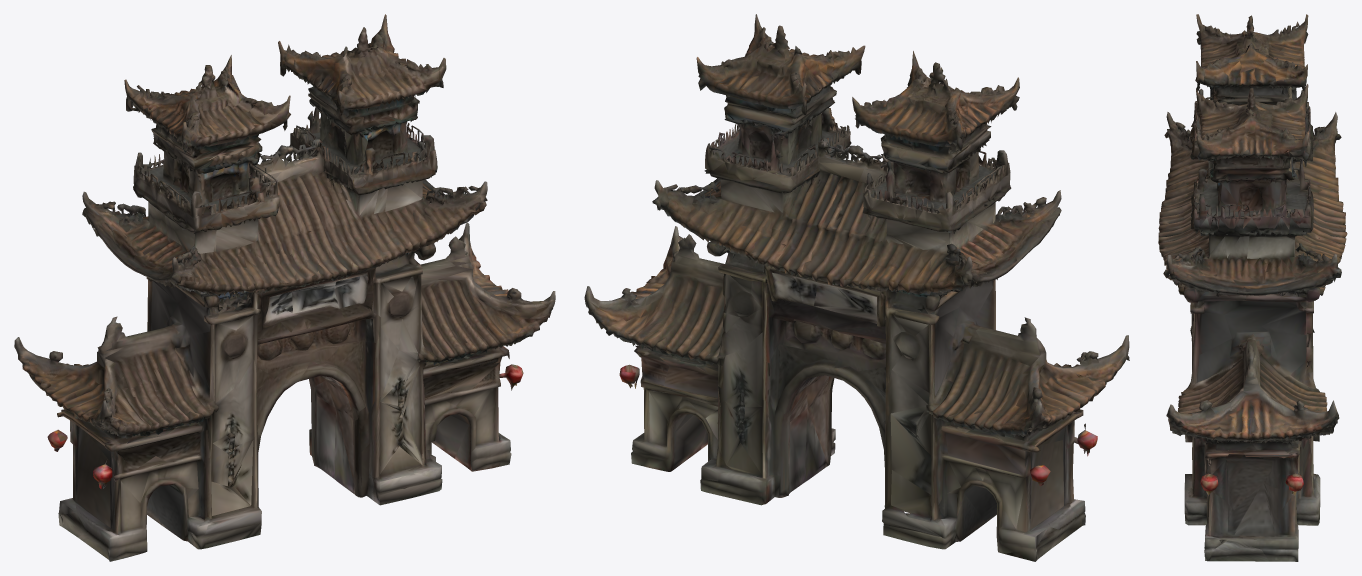
Rendered from Dark_oriental_gateway.glb.
3 views of the same model, side by side, from view 1: azimuth 30°, elevation 25°; view 2: azimuth 150°, elevation 25°; view 3: azimuth 270°, elevation 25° (orthographic). The views are drawn at different scales.
Visible parts, largest first — view 1: Dark_oriental_gateway; view 2: Dark_oriental_gateway; view 3: Dark_oriental_gateway.
Part boxes in pixels (x1,y1,x2,y2): Dark_oriental_gateway: (14, 14, 555, 561); Dark_oriental_gateway: (584, 14, 1129, 561); Dark_oriental_gateway: (1158, 14, 1347, 561).
Bounding box in the file's own units: 2 × 1.88 × 0.7696.
1 material, 1 textured.
